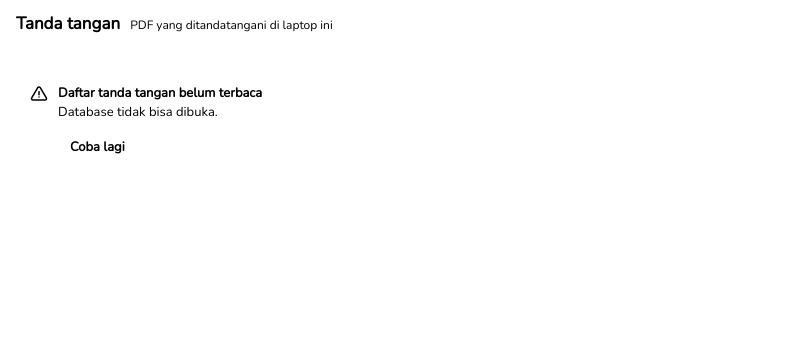
Test: SignScreen: keadaan dasar › error membaca bisa dicoba lagi
The image size is (789, 354).
Check: the text "Database tidak bisa dibuka." is shown, box x1=58 y1=103 x2=218 y2=121
Check: the text "Daftar tanda tangan belum terbaca" is shown, box x1=58 y1=84 x2=262 y2=103
Click the button "Coba lagi" at x=97, y=148, box x1=58 y1=130 x2=137 y2=164
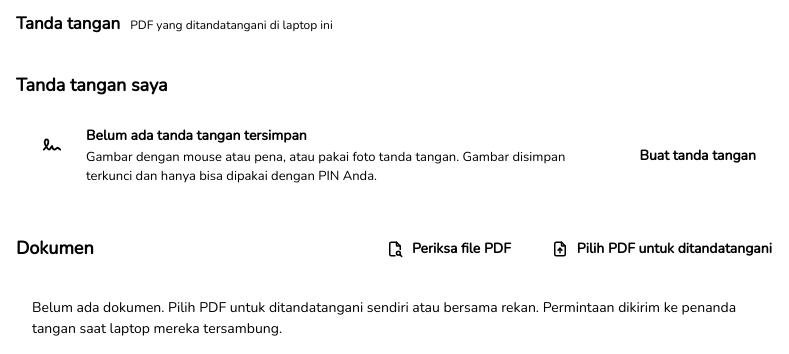
Check: the text "Belum ada dokumen" is shown, box x1=32 y1=298 x2=736 y2=338
